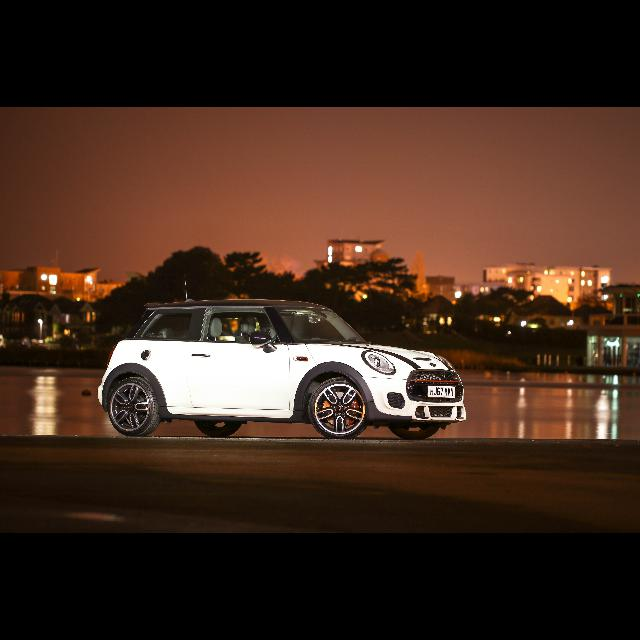cars: (84, 264, 478, 456)
